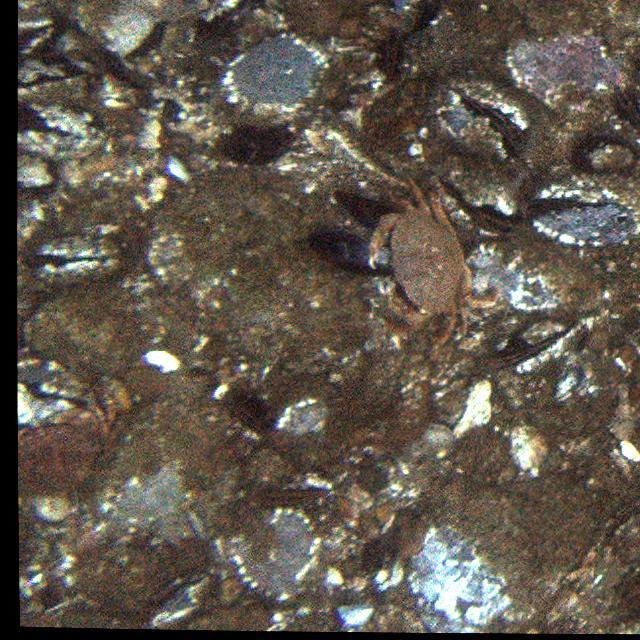crab: (360, 167, 476, 339)
